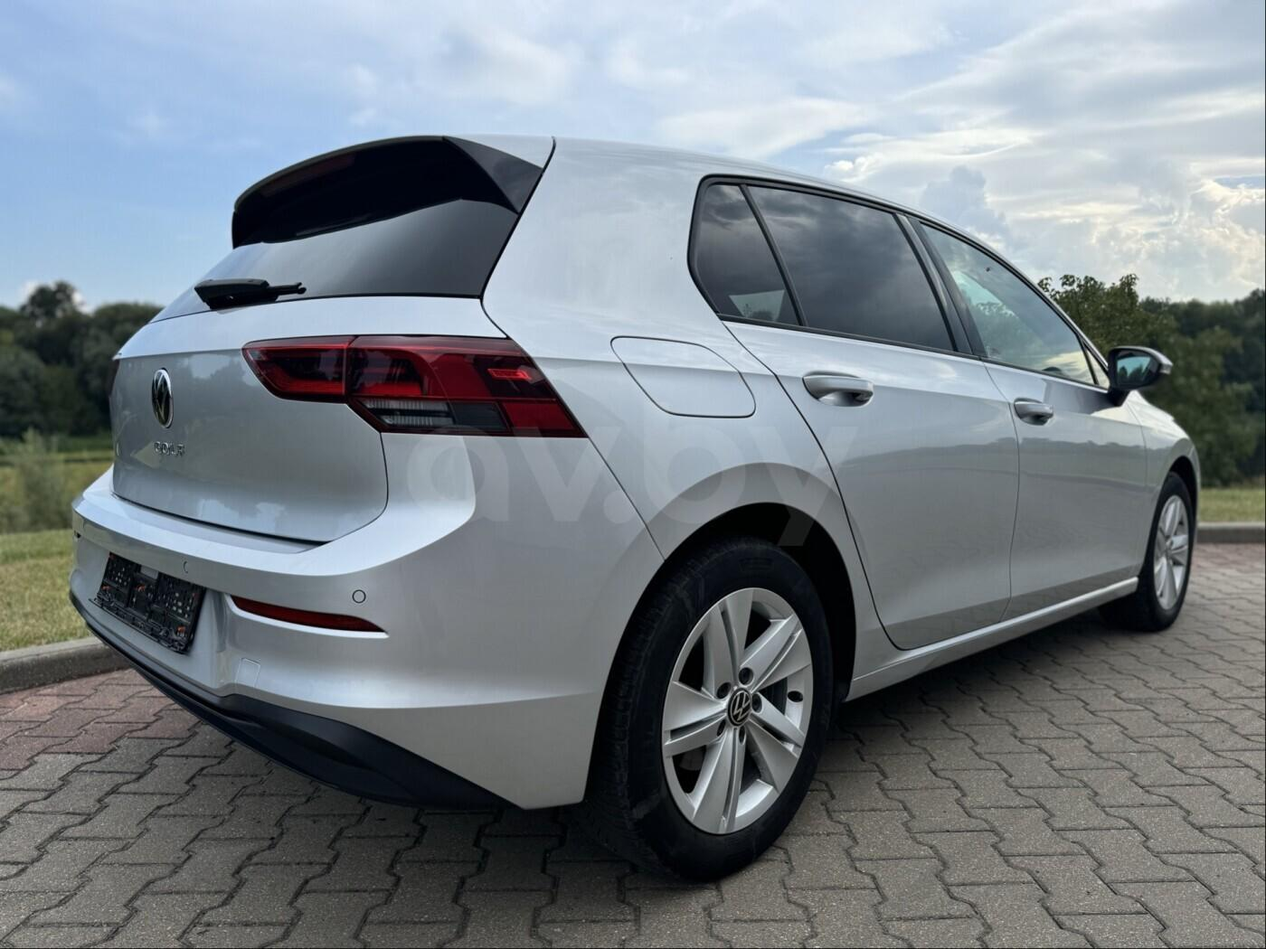Golf_2019: (65, 127, 1207, 884)
